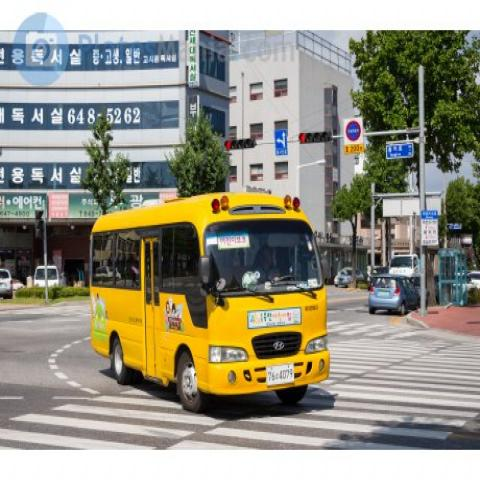LP: (262, 354, 297, 394)
